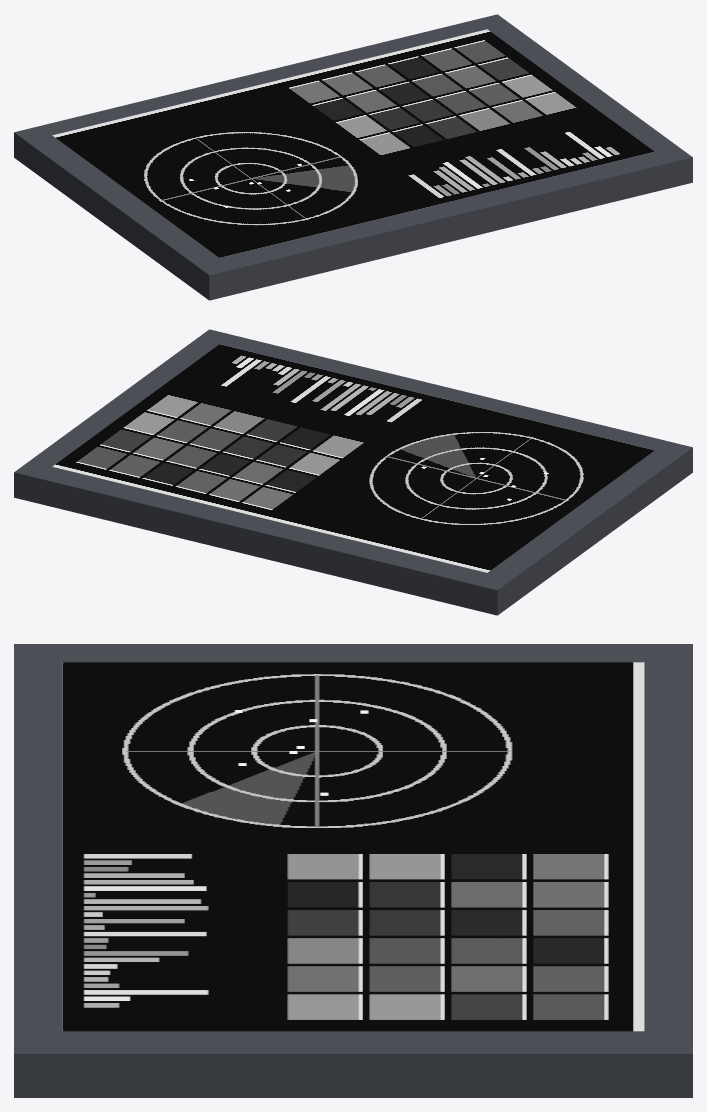
Rendered from Tech_DataPad.gltf.
The picture shows the model from 3 angles, top to bottom: view 1: azimuth 30°, elevation 25°; view 2: azimuth 150°, elevation 25°; view 3: azimuth 270°, elevation 25°; orthographic projection. The views are drawn at different scales.
Visible parts, largest first — view 1: Tech_DataPad; view 2: Tech_DataPad; view 3: Tech_DataPad.
Part boxes in pixels (bbox=[...]): Tech_DataPad: bbox=[14, 14, 692, 300]; Tech_DataPad: bbox=[14, 329, 692, 615]; Tech_DataPad: bbox=[14, 644, 692, 1097].
Bounding box in the file's own units: 0.2 × 0.0105 × 0.14.
Materials: 2 (1 with a texture image).
